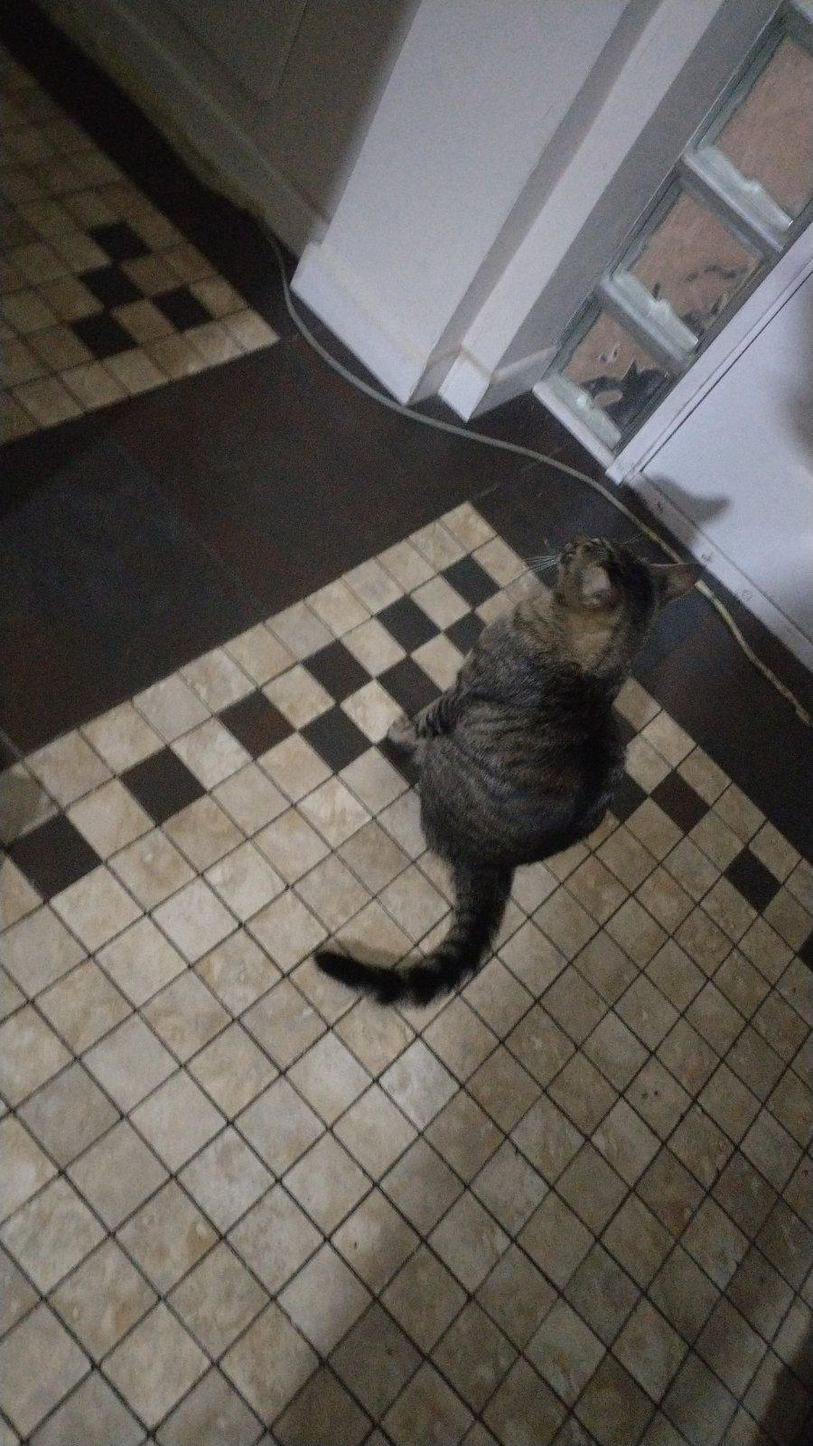macka: (310, 524, 711, 1013)
